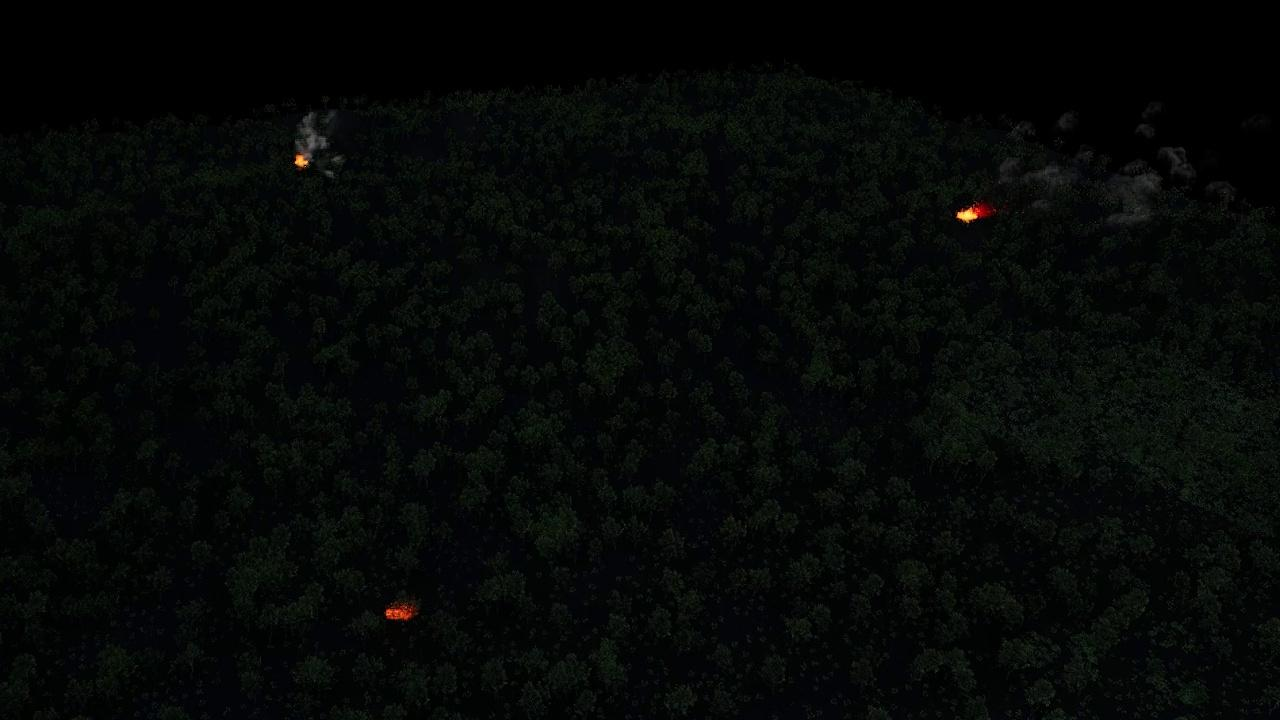fire: (386, 602, 419, 622), (959, 204, 990, 223), (294, 153, 308, 169)
smoke: (996, 103, 1238, 223), (293, 111, 344, 185)
